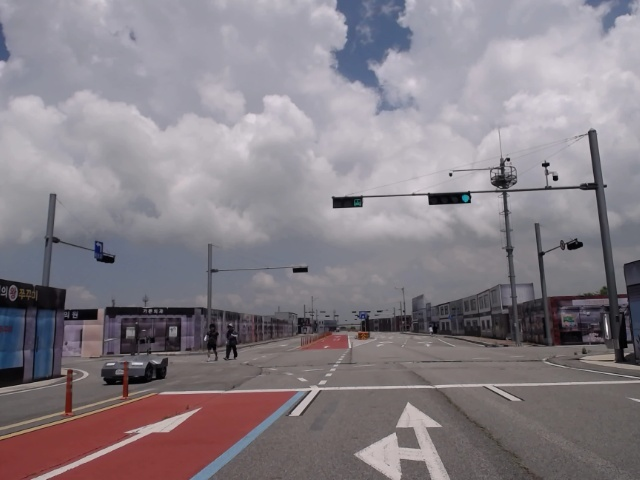straight_green_4: (427, 194, 469, 204)
